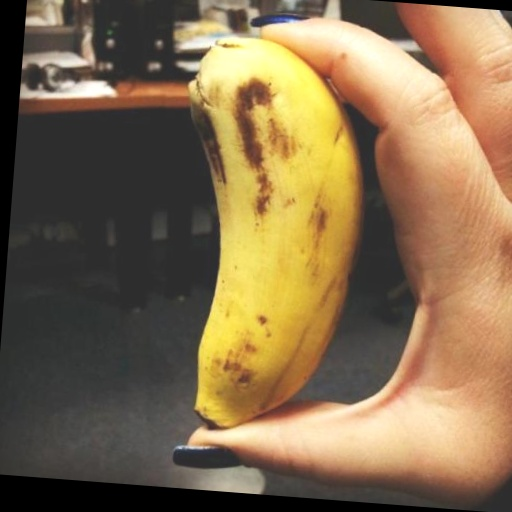fruit: (189, 38, 362, 427)
